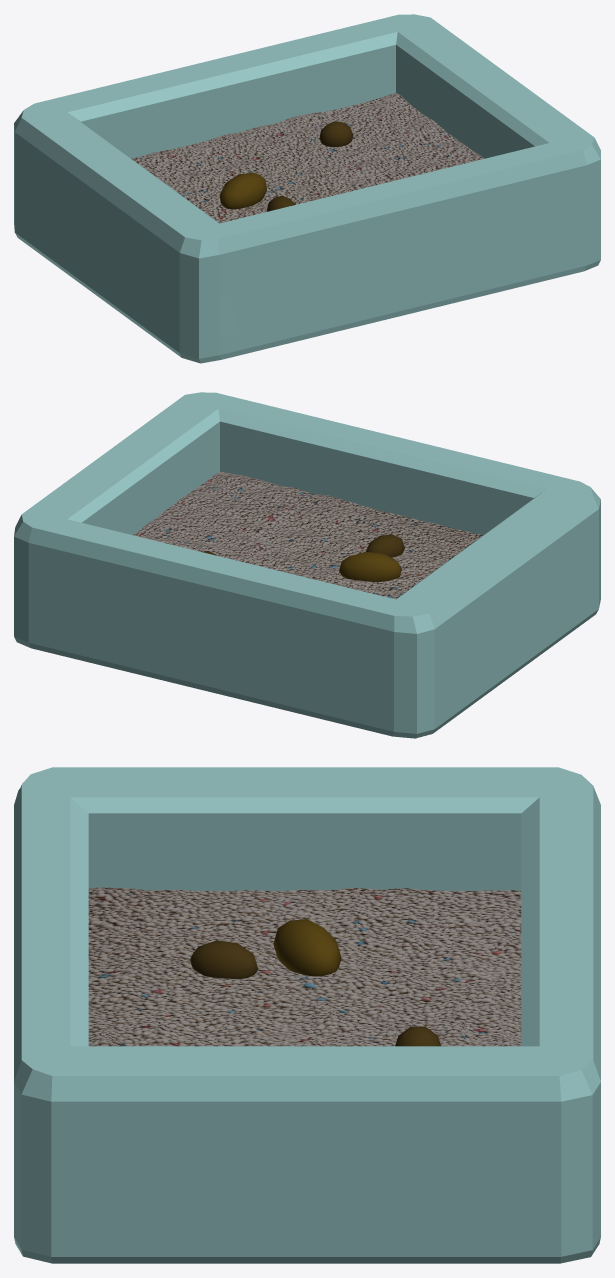
File: Dirty_Litterbox.gltf
3 views of the same model, one above another, from view 1: azimuth 30°, elevation 25°; view 2: azimuth 150°, elevation 25°; view 3: azimuth 270°, elevation 25° (orthographic). The views are drawn at different scales.
Parts seen in each view (by area): view 1: Cube, Grid, poop 1, poop 3; view 2: Cube, Grid, poop 1, poop 2; view 3: Cube, Grid, poop 1, poop 2, poop 3.
Part boxes in pixels (x1,y1,x2,y2): Cube: [14, 14, 600, 363]; Grid: [131, 93, 484, 223]; poop 1: [219, 172, 266, 209]; poop 3: [319, 121, 353, 146]; Cube: [14, 392, 600, 738]; Grid: [133, 471, 483, 599]; poop 1: [339, 551, 401, 581]; poop 2: [366, 534, 404, 557]; Cube: [14, 767, 600, 1263]; Grid: [88, 887, 521, 1046]; poop 1: [273, 919, 341, 976]; poop 2: [190, 940, 257, 978]; poop 3: [395, 1026, 440, 1046].
Size of the model in its own units: 2 by 0.5494 by 1.56.
Materials: 4 (1 with a texture image).
